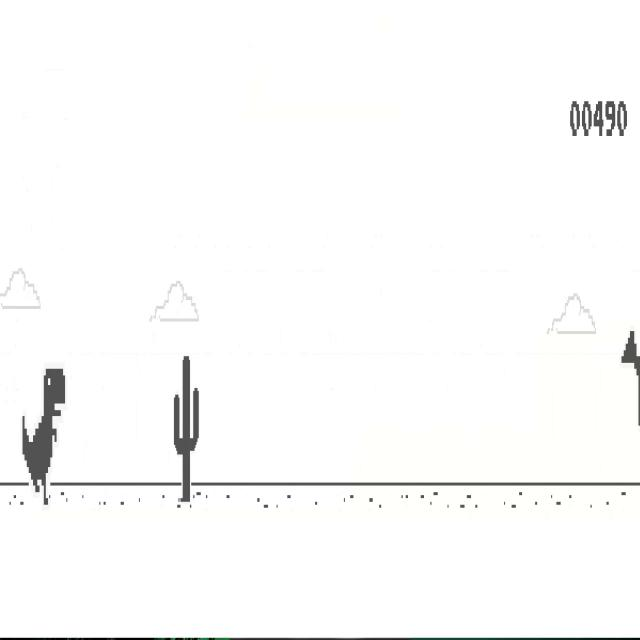cacto: (173, 354, 200, 504)
dino: (21, 368, 66, 507)
ptero: (620, 328, 640, 428)
